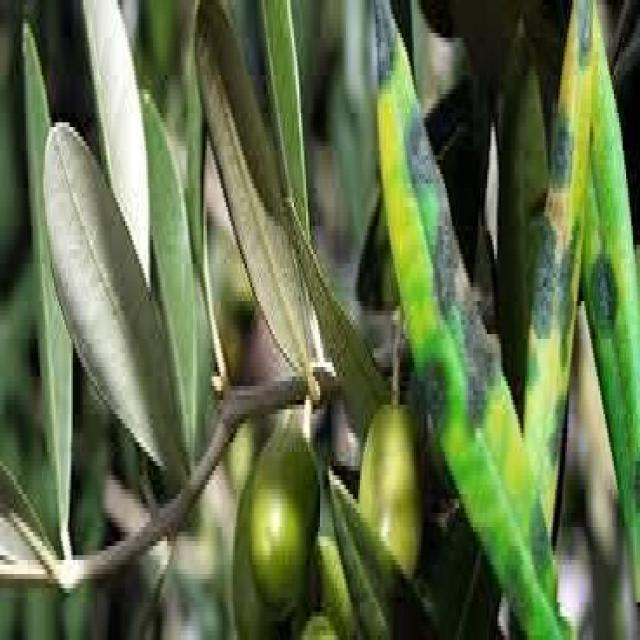Peacock Eye: (377, 5, 553, 635), (523, 0, 591, 554), (582, 3, 638, 602)
